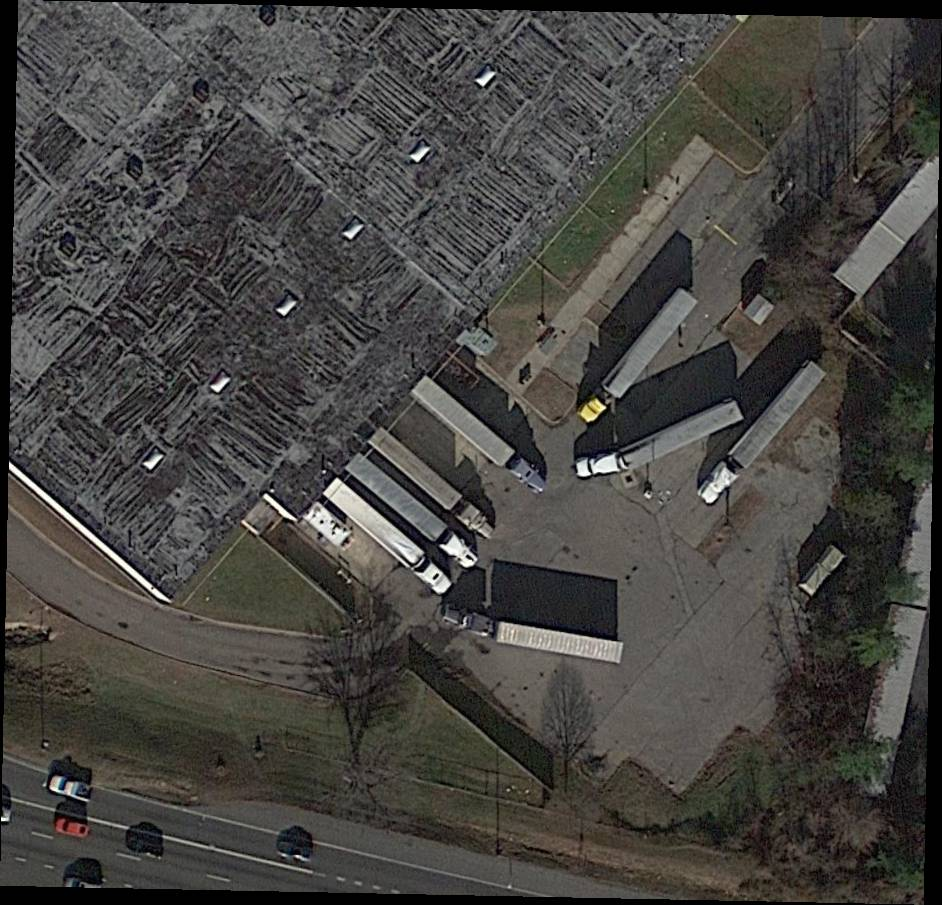large vehicle: (698, 359, 828, 507), (410, 375, 550, 497), (578, 289, 700, 427), (344, 453, 482, 574), (323, 477, 455, 596), (368, 427, 497, 541), (441, 610, 624, 665)
small vehicle: (45, 773, 96, 805), (270, 836, 317, 869), (125, 833, 167, 861), (51, 816, 94, 843)
